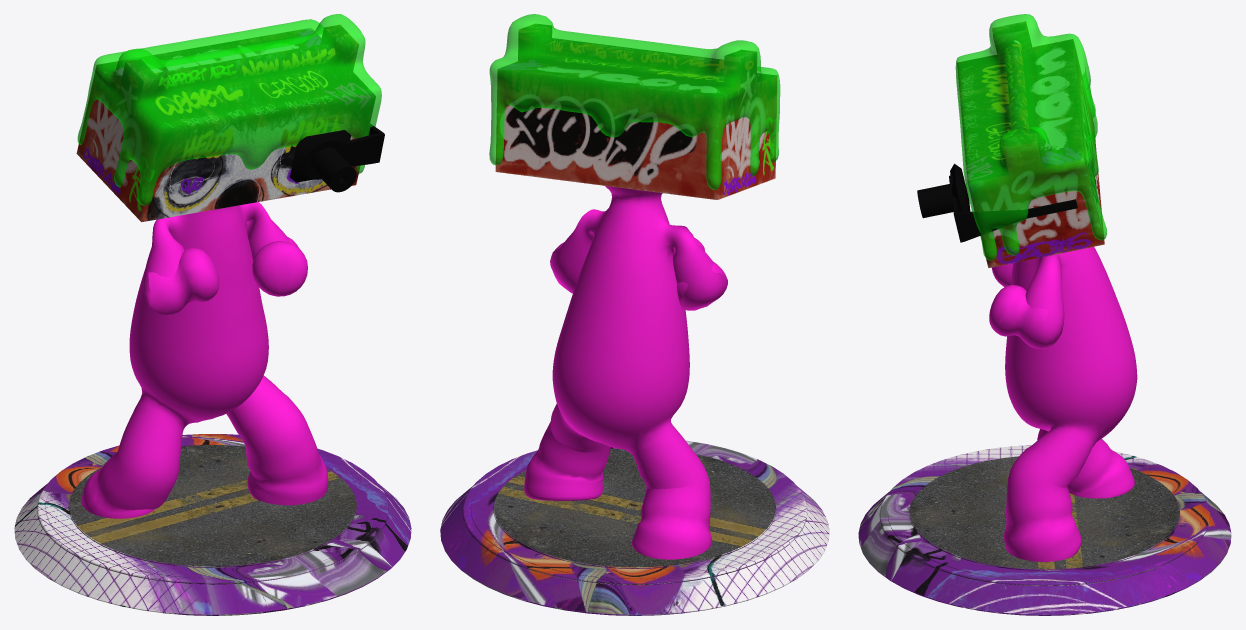
3 views of the same model, side by side, from view 1: azimuth 30°, elevation 25°; view 2: azimuth 150°, elevation 25°; view 3: azimuth 270°, elevation 25° (orthographic). The views are drawn at different scales.
Visible parts, largest first — view 1: BBody; view 2: BBody; view 3: BBody.
Part boxes in pixels (x1,y1,x2,y2): BBody: (14,14,411,615); BBody: (440,14,829,615); BBody: (858,14,1231,615).
Bounding box in the file's own units: 1.45 × 2.06 × 1.45.
6 materials, 3 textured.
